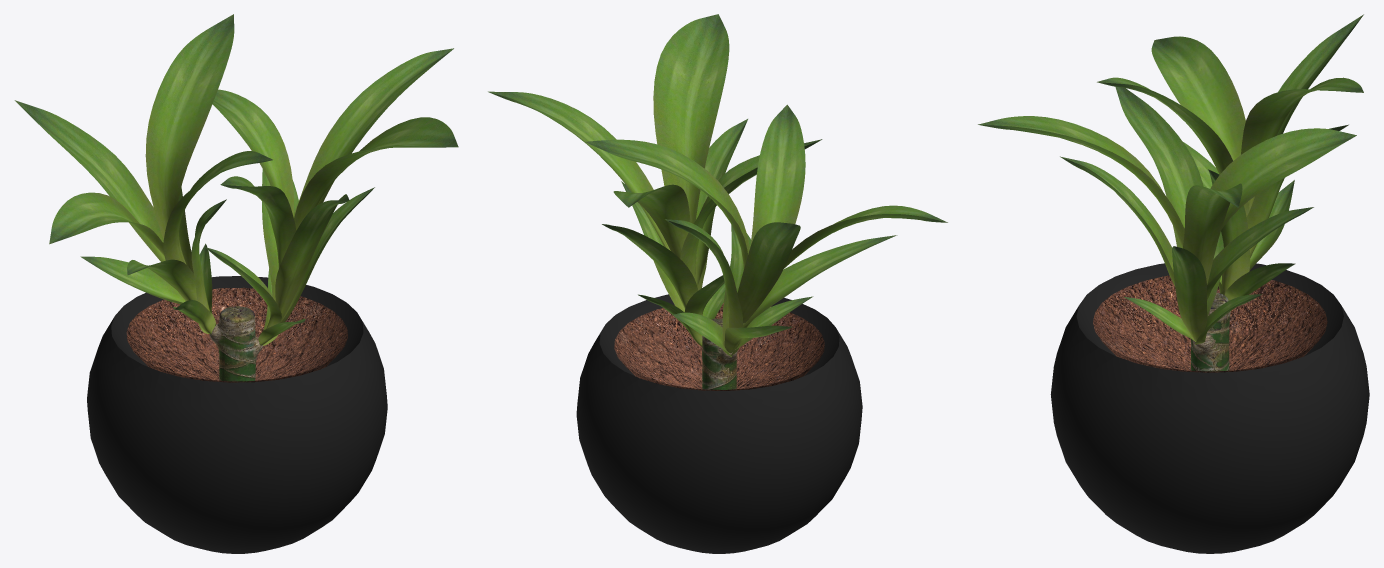
Rendered from Grass Bomb (Curved).fbx.
The picture shows the model from 3 angles, left to right: view 1: azimuth 30°, elevation 25°; view 2: azimuth 150°, elevation 25°; view 3: azimuth 270°, elevation 25°; orthographic projection. The views are drawn at different scales.
Visible parts, largest first — view 1: Pot, Plant, Soil; view 2: Pot, Plant, Soil; view 3: Pot, Plant, Soil.
Part boxes in pixels (left/top/right/bottom): Pot: left=87, top=276, right=387, bottom=553; Plant: left=14, top=14, right=458, bottom=381; Soil: left=126, top=287, right=347, bottom=382; Pot: left=576, top=294, right=862, bottom=553; Plant: left=488, top=14, right=947, bottom=389; Soil: left=614, top=303, right=824, bottom=390; Pot: left=1050, top=263, right=1369, bottom=553; Plant: left=978, top=14, right=1363, bottom=371; Soil: left=1093, top=275, right=1327, bottom=372.
Size of the model in its own units: 341 by 334 by 246.
5 materials, 4 textured.
